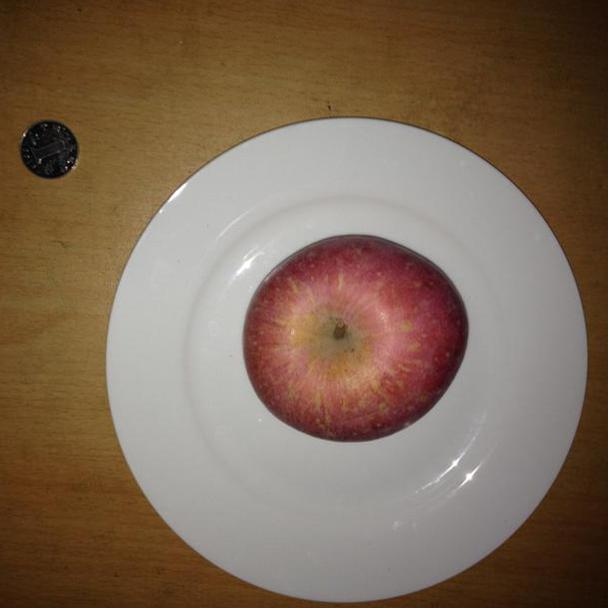apple: (241, 233, 467, 442)
